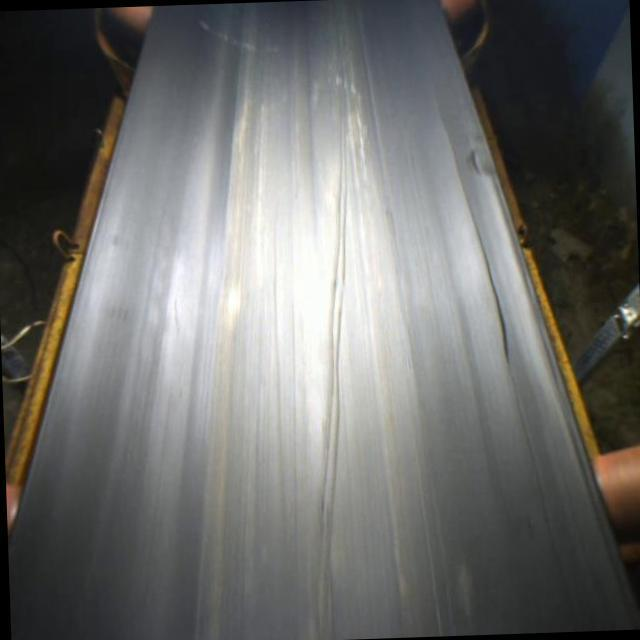Tear: (424, 89, 519, 372), (306, 91, 354, 634)
